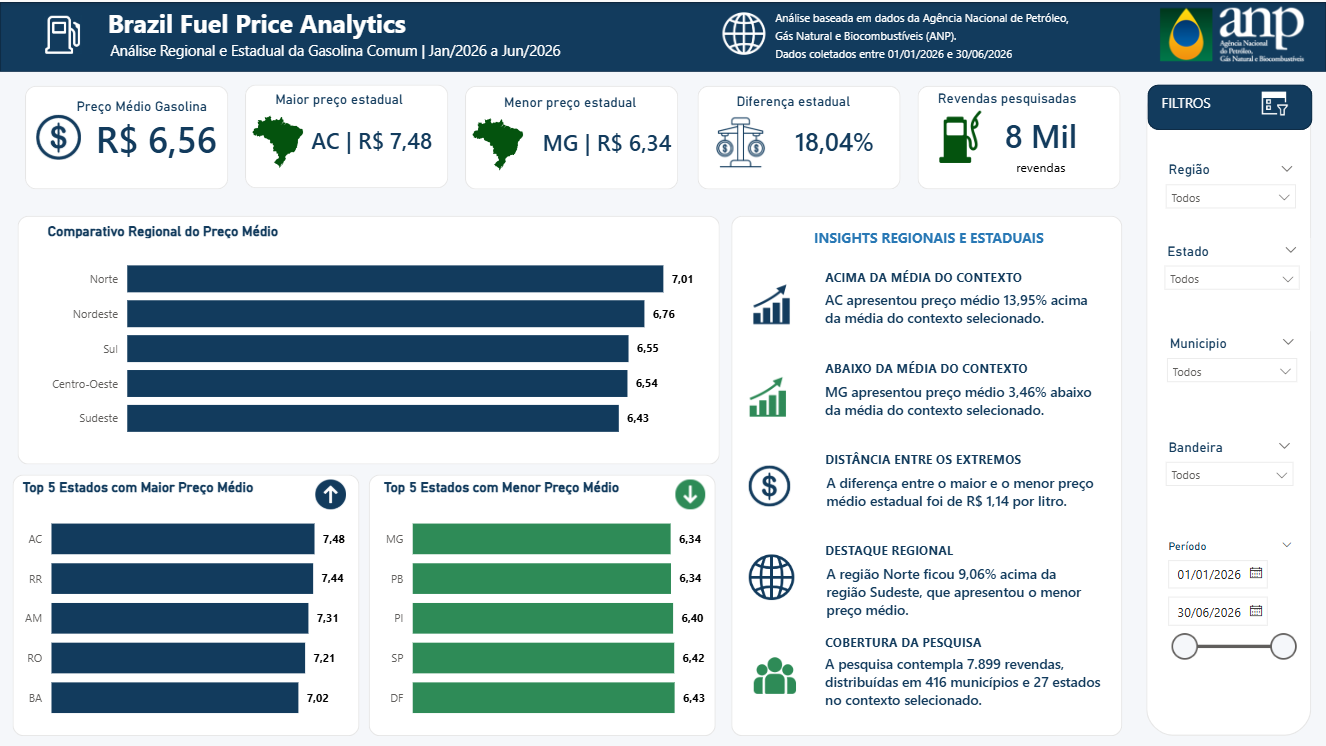

Layout of this report page (visuals, bound fields, positions):
{"tool":"powerbi","page":{"name":"Análise Regional","canvas":[1280,720],"ordinal":1},"visuals":[{"type":"shape","box":[0,0,1280,67.5],"z":0},{"type":"image","box":[12.2,13.5,96.6,36.7],"z":1000},{"type":"textbox","box":[98.8,0,413.8,61.2],"z":2000},{"type":"textbox","box":[101.2,32.5,455,35],"z":3000},{"type":"textbox","box":[743.8,0,310,70],"z":4000},{"type":"image","box":[1096.2,0,183.8,61.2],"z":5000},{"type":"image","box":[693.8,5,55,52.5],"z":6000},{"type":"shape","box":[1106,79.6,159.2,628.5],"z":7000},{"type":"shape","box":[1107.4,79.6,159.2,43.9],"z":8000},{"type":"textbox","box":[1115.6,83.7,120.8,31.6],"z":9000},{"type":"image","box":[1185.6,81,89.2,34.3],"z":10000},{"type":"shape","title":"Total de Revendas","box":[885.9,80.7,196,100],"z":11000},{"type":"slicer","fields":{"Values":["Fato Preços ANP.Região Nome"]},"box":[1114.8,149.6,146,78.4],"z":12000},{"type":"slicer","fields":{"Values":["Fato Preços ANP.estado__sigla"]},"box":[1113.5,228,150.8,89.3],"z":13000},{"type":"slicer","fields":{"Values":["Fato Preços ANP.municipio"]},"box":[1116,317.3,146,89.3],"z":14000},{"type":"slicer","fields":{"Values":["Fato Preços ANP.bandeira"]},"box":[1114.8,417.4,143.6,88.1],"z":15000},{"type":"slicer","fields":{"Values":["Calendario.Date"]},"box":[1114.8,513.9,144.8,136.3],"z":16000},{"type":"shape","title":"Total de Revendas","box":[673.8,81.2,196,100.2],"z":17000},{"type":"shape","title":"Total de Revendas","box":[449.3,80.4,205.8,100.2],"z":18000},{"type":"shape","title":"Total de Revendas","box":[236,79.6,196.2,100.2],"z":19000},{"type":"shape","title":"Total de Revendas","box":[24.7,81,196.2,100],"z":20000},{"type":"shape","title":"Total de Revendas","box":[16.5,205.8,677.9,240.1],"z":21000},{"type":"image","box":[453.4,112,53.5,50.8],"z":22000},{"type":"cardVisual","title":"Total de Revendas","fields":{"Data":["Fato Preços ANP.Total Revendas"]},"box":[938,82.1,130.4,108.4],"z":23000},{"type":"image","box":[899.6,105.4,53.5,50.8],"z":24000},{"type":"cardVisual","title":"Preço Médio (Líquidos)","fields":{"Data":["Fato Preços ANP.Preço Médio Líquidos"]},"box":[66.2,77.5,167.5,105],"z":25000},{"type":"image","box":[35,105,43.4,50.7],"z":26000},{"type":"barChart","title":"Comparativo Regional do Preço Médio","fields":{"Category":["Fato Preços ANP.Região Nome"],"Y":["Fato Preços ANP.Preço Médio Líquidos"]},"box":[41.2,214.1,708.1,220.9],"z":27000},{"type":"textbox","box":[68.6,85.1,161.9,38.4],"z":28000},{"type":"textbox","box":[260.7,79.6,207.2,38.4],"z":29000},{"type":"textbox","box":[705.3,81.2,120.8,38.4],"z":30000},{"type":"textbox","box":[899.6,77.9,157.8,38.4],"z":31000},{"type":"textbox","box":[480.8,81.8,145.5,38.4],"z":32000},{"type":"image","box":[241.5,109.8,53.5,50.8],"z":33000},{"type":"image","box":[673.8,108.7,83.7,53.5],"z":34000},{"type":"cardVisual","fields":{"Data":["Fato Preços ANP.Insight Estado Maior Preço"]},"box":[284,111.1,159.2,43.9],"z":35000},{"type":"cardVisual","fields":{"Data":["Fato Preços ANP.Insight Estado Menor Preço"]},"box":[506.9,112,159.2,43.9],"z":36000},{"type":"cardVisual","fields":{"Data":["Fato Preços ANP.Insight Diferença Estadual"]},"box":[750.6,112.5,119.4,43.9],"z":37000},{"type":"shape","title":"Total de Revendas","box":[12.3,455.6,334.8,252.5],"z":38000},{"type":"barChart","title":"Top 5 Estados com Maior Preço Médio","fields":{"Category":["Fato Preços ANP.estado__sigla"],"Y":["Fato Preços ANP.Preço Médio"]},"box":[16.5,461.1,378.7,247],"z":39000},{"type":"shape","title":"Total de Revendas","box":[705.3,205.8,377.4,502.2],"z":40000},{"type":"shape","title":"Total de Revendas","box":[355.4,455.6,334.8,252.5],"z":41000},{"type":"barChart","title":"Top 5 Estados com Menor Preço Médio","fields":{"Category":["Fato Preços ANP.estado__sigla"],"Y":["Fato Preços ANP.Preço Médio"]},"box":[365,461.1,378.7,247],"z":42000},{"type":"textbox","box":[780.8,214.1,238.8,37],"z":43000},{"type":"image","box":[284,461.1,71.4,28.8],"z":44000},{"type":"image","box":[650.4,461.1,31.6,28.8],"z":45000},{"type":"textbox","box":[791.8,251.1,241.5,444.6],"z":46000},{"type":"image","box":[723.2,528.3,43.9,53.5],"z":47000},{"type":"image","box":[723.2,266.2,43.9,50.8],"z":48000},{"type":"image","box":[719,355.4,43.9,50.8],"z":49000},{"type":"image","box":[727.3,625.7,41.2,48],"z":50000},{"type":"image","box":[723.2,435,39.8,63.1],"z":51000},{"type":"cardVisual","fields":{"Data":["Fato Preços ANP.Insight Estado Acima da Média"]},"box":[779.4,233.3,293.7,123.5],"z":52000},{"type":"cardVisual","fields":{"Data":["Fato Preços ANP.Insight Estado Abaixo da Média"]},"box":[779.4,322.5,293.7,123.5],"z":53000},{"type":"cardVisual","fields":{"Data":["Fato Preços ANP.Insight Distância Entre Extremos"]},"box":[780.6,409,294.4,124.3],"z":54000},{"type":"cardVisual","fields":{"Data":["Fato Preços ANP.Insight Destaque Regional"]},"box":[780.8,505,293.7,124.9],"z":55000},{"type":"cardVisual","fields":{"Data":["Fato Preços ANP.Insight Cobertura da Pesquisa"]},"box":[779.4,602.4,303.3,105.7],"z":56000}]}

Visuals, with their boxes in screenshot pixels (x1, y1, x2, y2), scaled from the page's 1280x720 canvas onto the 1326x746 screenshot:
shape: (0, 0, 1325, 70)
image: (13, 14, 113, 52)
textbox: (102, 0, 531, 63)
textbox: (105, 34, 576, 70)
textbox: (771, 0, 1092, 73)
image: (1136, 0, 1325, 63)
image: (719, 5, 776, 60)
shape: (1146, 82, 1311, 734)
shape: (1147, 82, 1312, 128)
textbox: (1156, 87, 1281, 119)
image: (1228, 84, 1321, 119)
"Total de Revendas" shape: (918, 84, 1121, 187)
slicer - Fato Preços ANP.Região Nome: (1155, 155, 1306, 236)
slicer - Fato Preços ANP.estado__sigla: (1154, 236, 1310, 329)
slicer - Fato Preços ANP.municipio: (1156, 329, 1307, 421)
slicer - Fato Preços ANP.bandeira: (1155, 432, 1304, 524)
slicer - Calendario.Date: (1155, 532, 1305, 674)
"Total de Revendas" shape: (698, 84, 901, 188)
"Total de Revendas" shape: (465, 83, 679, 187)
"Total de Revendas" shape: (244, 82, 448, 186)
"Total de Revendas" shape: (26, 84, 229, 188)
"Total de Revendas" shape: (17, 213, 719, 462)
image: (470, 116, 525, 169)
"Total de Revendas" cardVisual: (972, 85, 1107, 197)
image: (932, 109, 987, 162)
"Preço Médio (Líquidos)" cardVisual: (69, 80, 242, 189)
image: (36, 109, 81, 161)
"Comparativo Regional do Preço Médio" barChart: (43, 222, 776, 451)
textbox: (71, 88, 239, 128)
textbox: (270, 82, 485, 122)
textbox: (731, 84, 856, 124)
textbox: (932, 81, 1095, 120)
textbox: (498, 85, 649, 125)
image: (250, 114, 306, 166)
image: (698, 113, 785, 168)
cardVisual - Fato Preços ANP.Insight Estado Maior Preço: (294, 115, 459, 161)
cardVisual - Fato Preços ANP.Insight Estado Menor Preço: (525, 116, 690, 162)
cardVisual - Fato Preços ANP.Insight Diferença Estadual: (778, 117, 901, 162)
"Total de Revendas" shape: (13, 472, 360, 734)
"Top 5 Estados com Maior Preço Médio" barChart: (17, 478, 409, 734)
"Total de Revendas" shape: (731, 213, 1122, 734)
"Total de Revendas" shape: (368, 472, 715, 734)
"Top 5 Estados com Menor Preço Médio" barChart: (378, 478, 770, 734)
textbox: (809, 222, 1056, 260)
image: (294, 478, 368, 508)
image: (674, 478, 707, 508)
textbox: (820, 260, 1070, 721)
image: (749, 547, 795, 603)
image: (749, 276, 795, 328)
image: (745, 368, 790, 421)
image: (753, 648, 796, 698)
image: (749, 451, 790, 516)
cardVisual - Fato Preços ANP.Insight Estado Acima da Média: (807, 242, 1112, 370)
cardVisual - Fato Preços ANP.Insight Estado Abaixo da Média: (807, 334, 1112, 462)
cardVisual - Fato Preços ANP.Insight Distância Entre Extremos: (809, 424, 1114, 553)
cardVisual - Fato Preços ANP.Insight Destaque Regional: (809, 523, 1113, 653)
cardVisual - Fato Preços ANP.Insight Cobertura da Pesquisa: (807, 624, 1122, 734)
